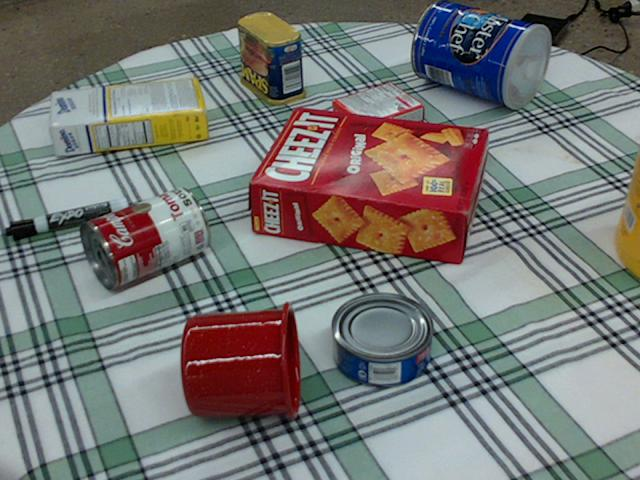cracker_box: (249, 105, 488, 261)
gelatin_box: (330, 79, 423, 144)
large_marker: (4, 197, 127, 240)
master_chef_can: (410, 1, 549, 108)
mug: (179, 297, 301, 420)
mustard_bottle: (614, 140, 639, 277)
potted_meat_can: (236, 11, 305, 104)
sugar_box: (49, 78, 207, 154)
tomato_soup_can: (79, 185, 208, 289)
tuna_fish_can: (331, 292, 433, 387)
